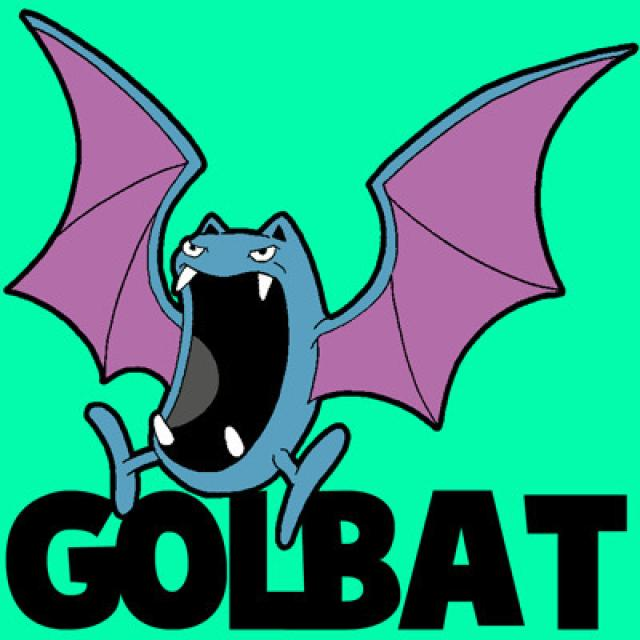Golbat: (52, 160, 444, 498)
